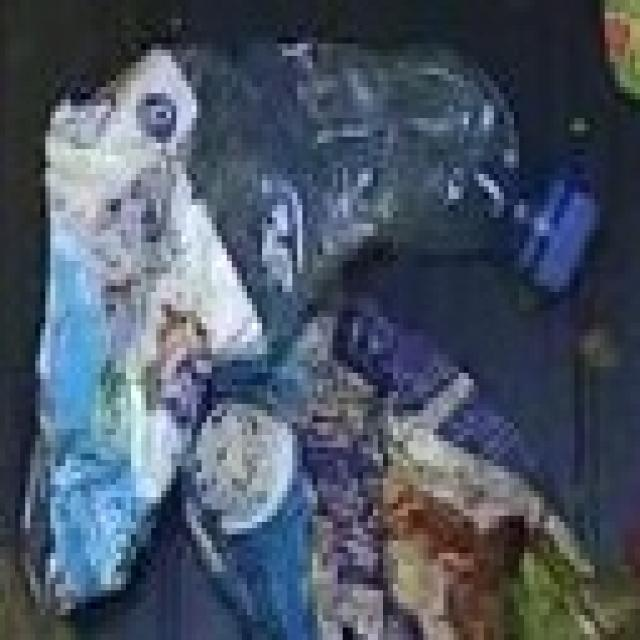litter: (501, 159, 616, 312)
